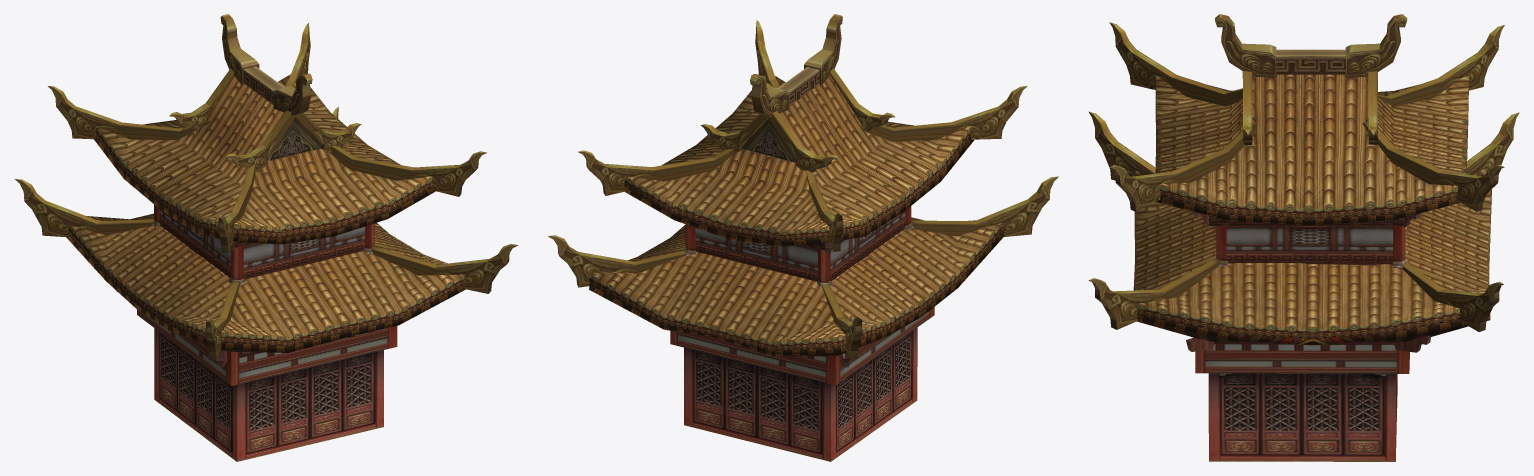
File: Yland1_fz_05 Yland1.FBX
3 views of the same model, side by side, from view 1: azimuth 30°, elevation 25°; view 2: azimuth 150°, elevation 25°; view 3: azimuth 270°, elevation 25° (orthographic). The views are drawn at different scales.
Parts seen in each view (by area): view 1: Yland1_fz_05 Yland1; view 2: Yland1_fz_05 Yland1; view 3: Yland1_fz_05 Yland1.
Boxes of the visible parts, box(x1,y1,x2,y2) form: Yland1_fz_05 Yland1: box(15, 14, 518, 461); Yland1_fz_05 Yland1: box(548, 14, 1058, 461); Yland1_fz_05 Yland1: box(1088, 14, 1519, 461).
Size of the model in its own units: 15.04 by 16.49 by 15.84.
